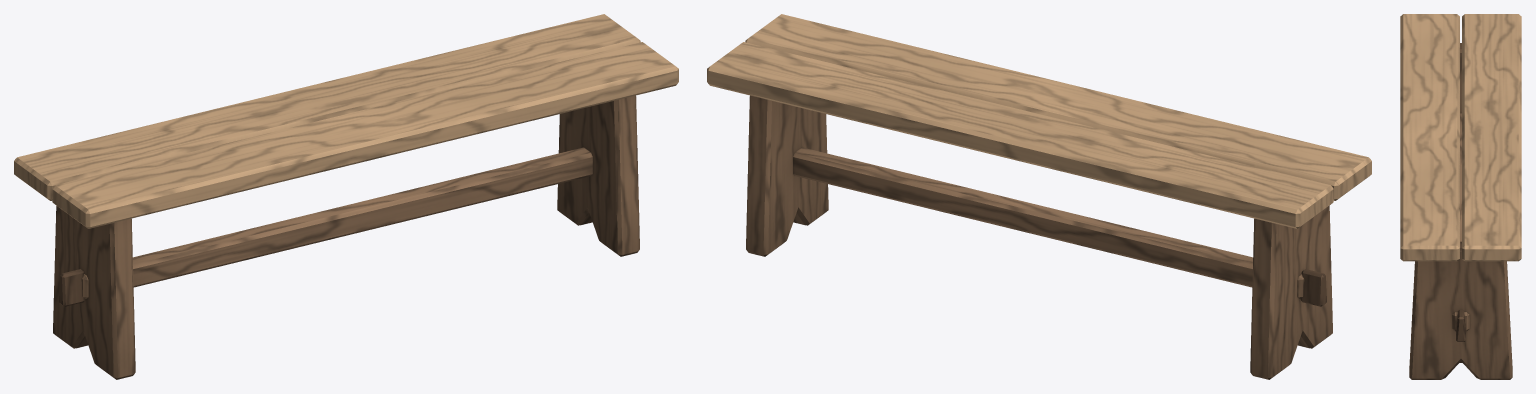
The model's file is bench_tex.glb.
3 views of the same model, side by side, from view 1: azimuth 30°, elevation 25°; view 2: azimuth 150°, elevation 25°; view 3: azimuth 270°, elevation 25° (orthographic). The views are drawn at different scales.
Parts seen in each view (by area): view 1: bench; view 2: bench; view 3: bench.
Boxes of the visible parts, bbox=[...] form: bench: bbox=[14, 14, 678, 379]; bench: bbox=[707, 14, 1371, 379]; bench: bbox=[1400, 14, 1521, 379].
Bounding box in the file's own units: 1.6 × 0.47 × 0.35.
Materials: 3 (3 with a texture image).
